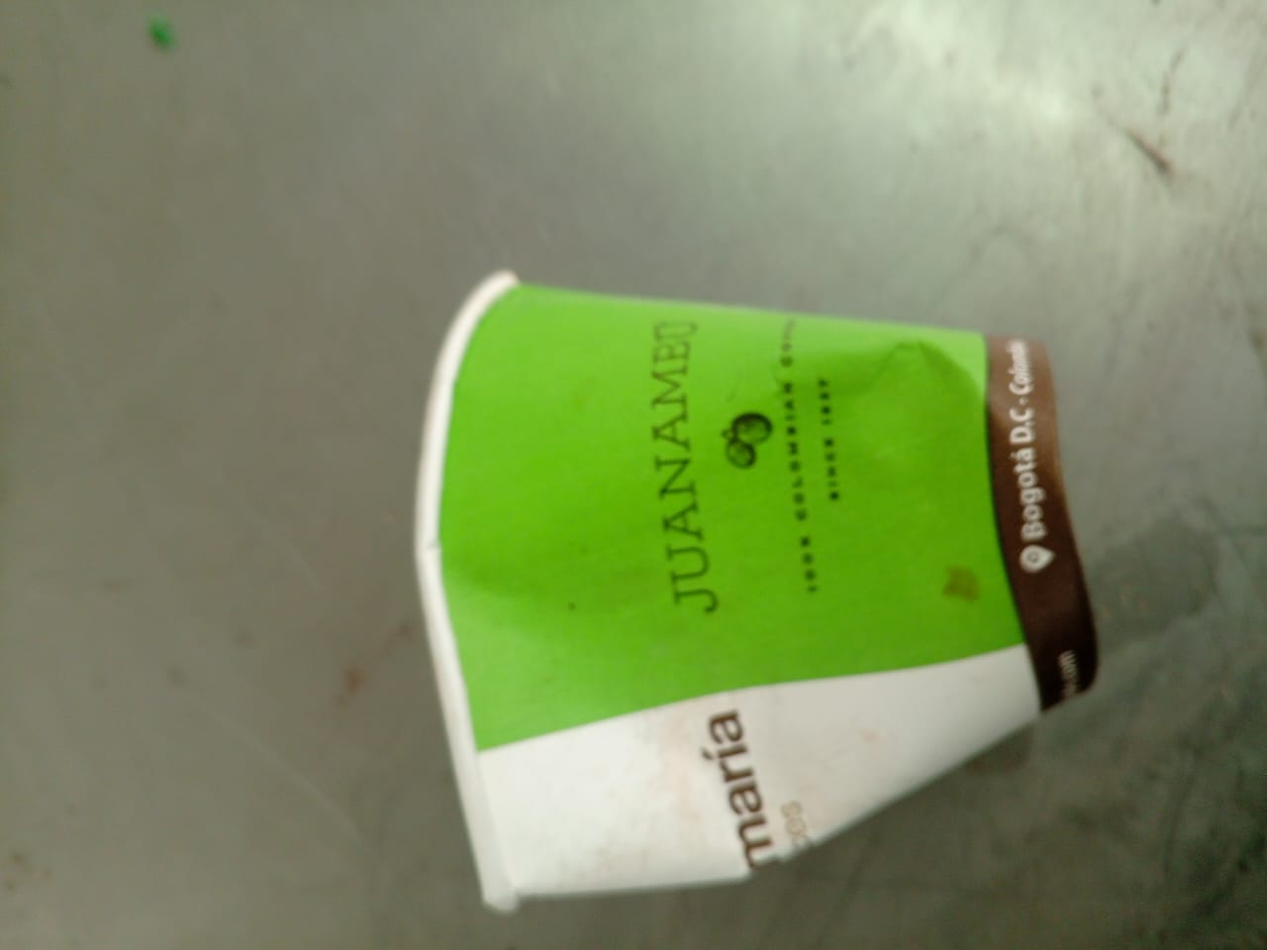Carton: (413, 269, 1103, 909)
